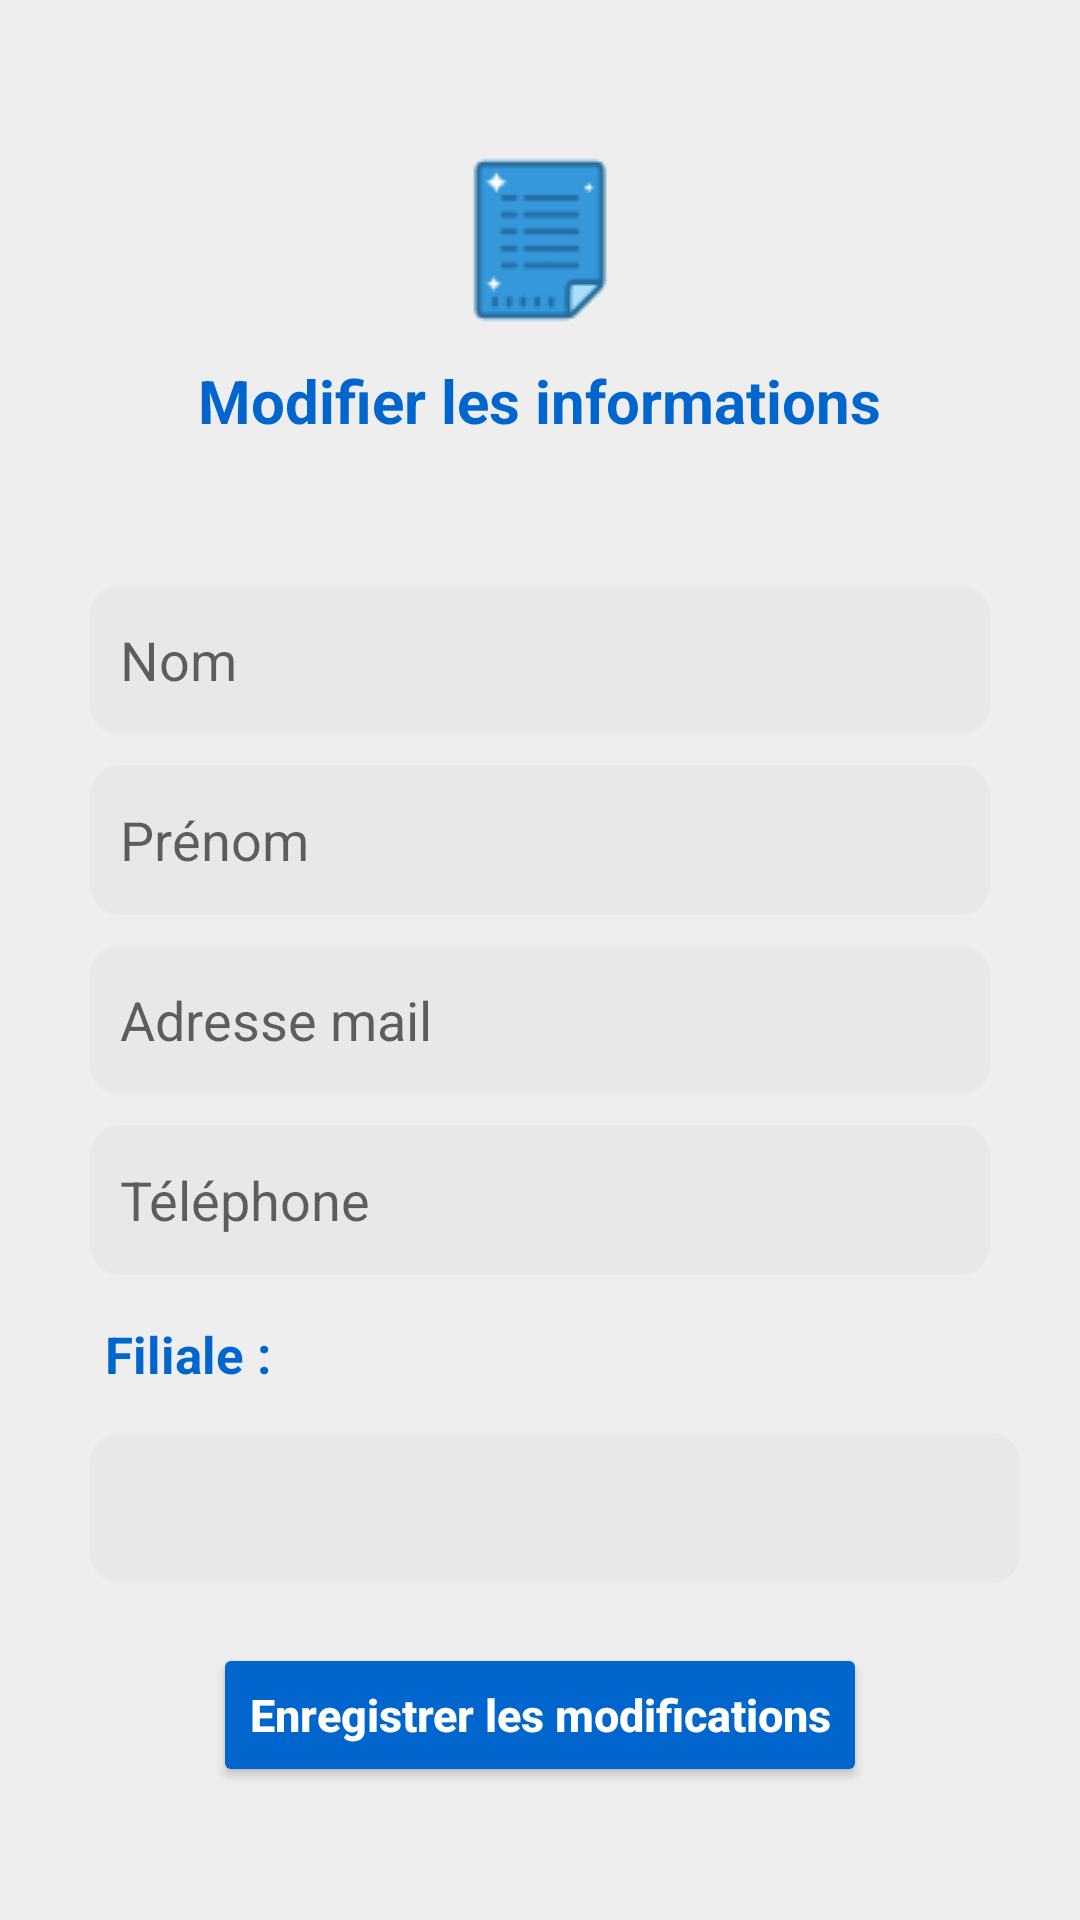

Icons on this 1080px×1920px Android screen, each with its box as Rect(x1, y1, x2, y2):
infos: Rect(473, 159, 607, 321)
